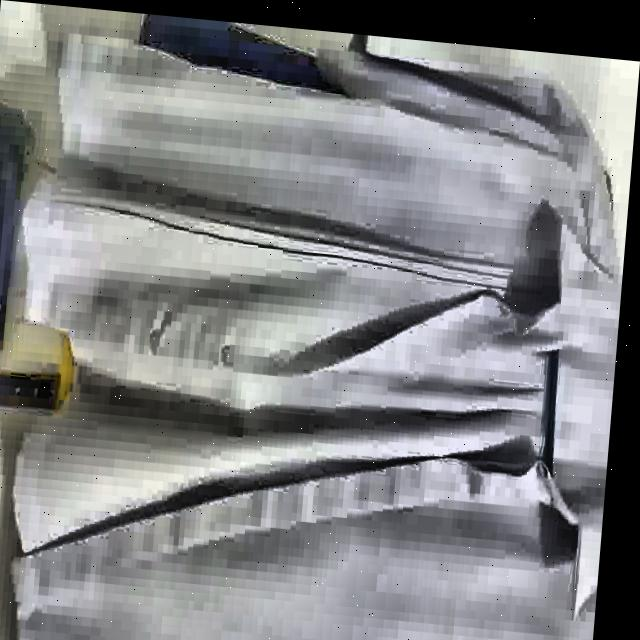clothes: (0, 13, 639, 640)
